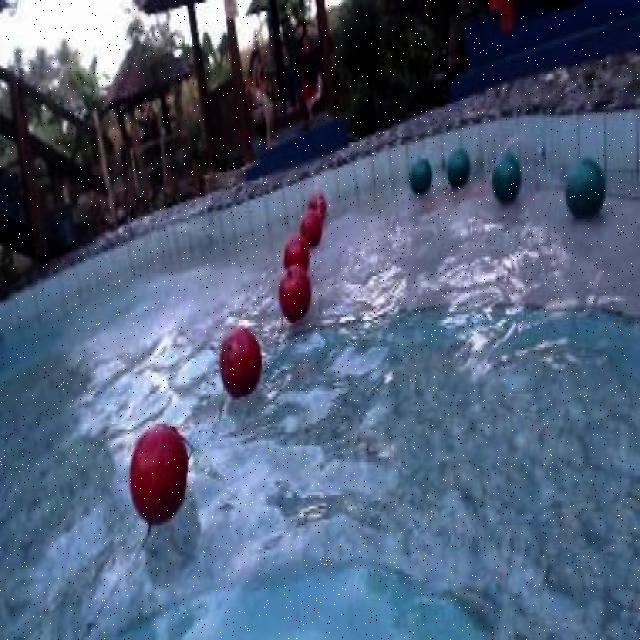buoy: (128, 421, 186, 525), (218, 324, 262, 398), (564, 157, 604, 220), (276, 264, 310, 322), (491, 153, 522, 203), (282, 232, 308, 276), (447, 148, 470, 186), (298, 212, 321, 247), (410, 156, 431, 194), (308, 190, 326, 220)
